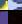star: (0, 0, 8, 10)
